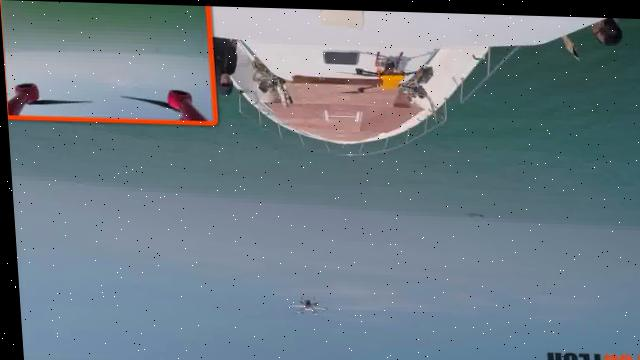drone: (284, 295, 323, 317)
